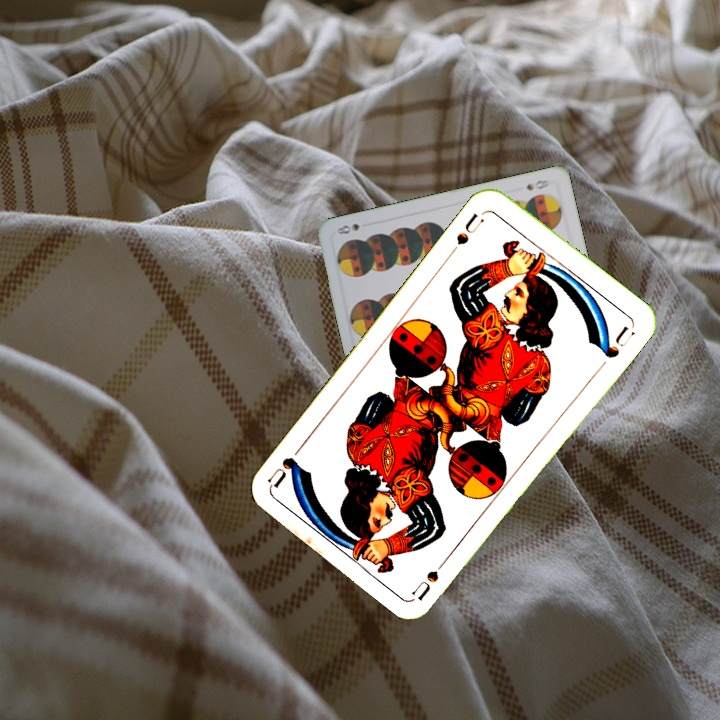S8: (522, 176, 551, 193)
SU: (409, 549, 454, 602), (446, 207, 488, 258)
